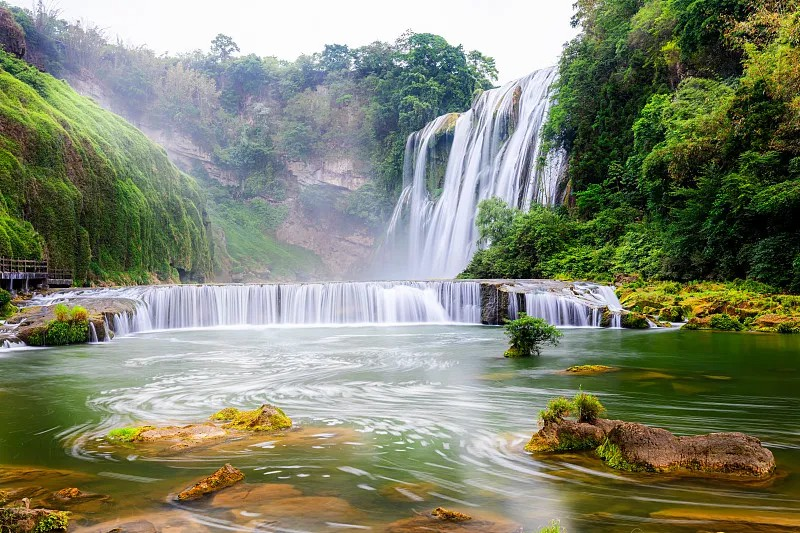Huangguoshu: (390, 66, 569, 280)
